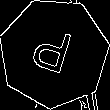P_S: (30, 24, 79, 82)
